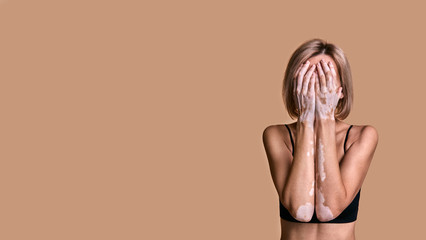vitiligo: (293, 63, 342, 119), (288, 184, 337, 223)
